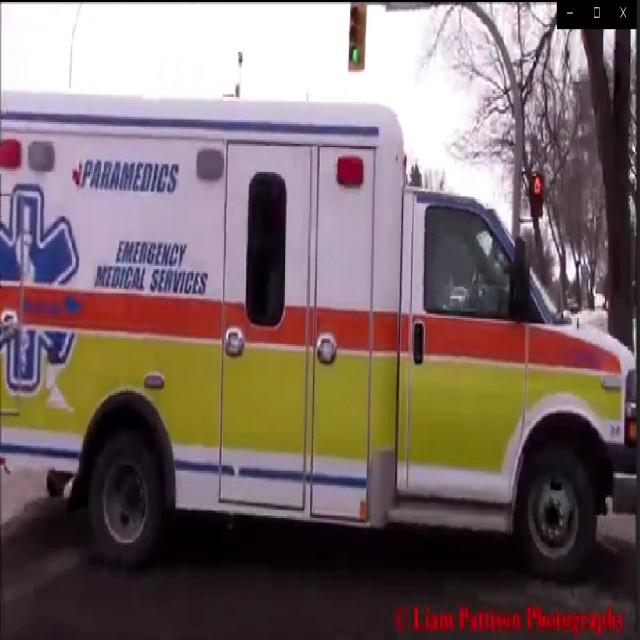emergency: (2, 88, 639, 584)
